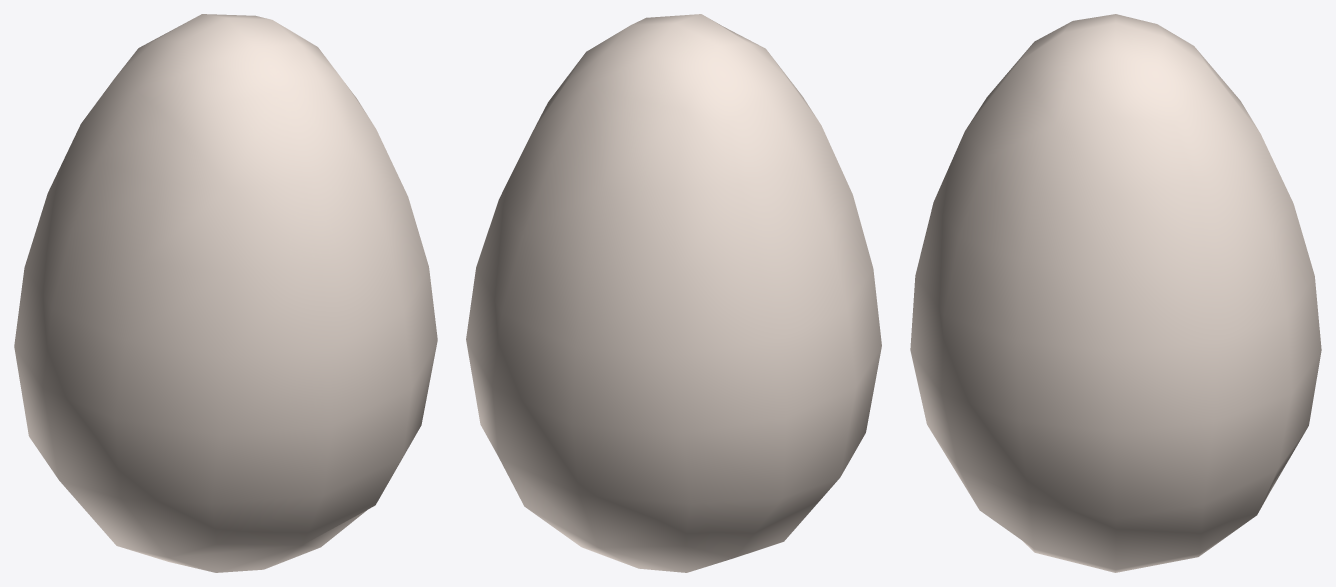
Rendered from Egg.fbx.
The picture shows the model from 3 angles, left to right: view 1: azimuth 30°, elevation 25°; view 2: azimuth 150°, elevation 25°; view 3: azimuth 270°, elevation 25°; orthographic projection.
Parts seen in each view (by area): view 1: Egg_low; view 2: Egg_low; view 3: Egg_low.
Part boxes in pixels (box(x1,y1,x2,y2)): Egg_low: box(14, 14, 437, 572); Egg_low: box(466, 14, 881, 572); Egg_low: box(910, 14, 1321, 572).
Bounding box in the file's own units: 204 × 286 × 200.
